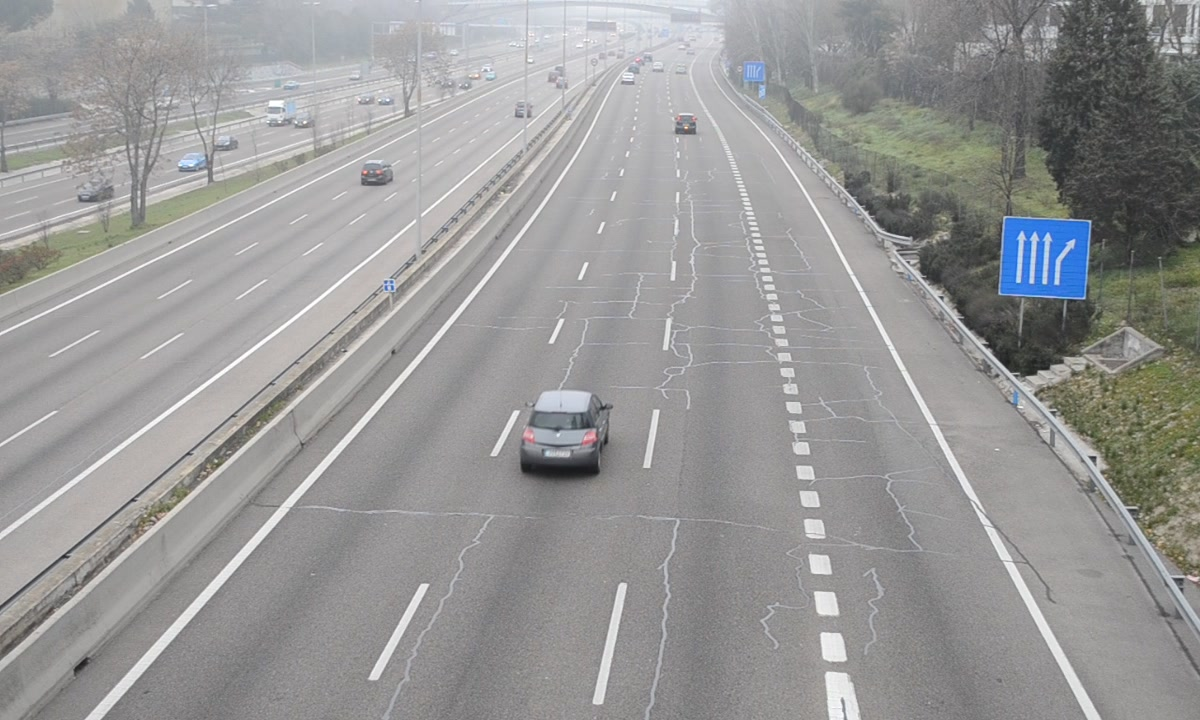car: (520, 393, 606, 470), (675, 114, 697, 137)
